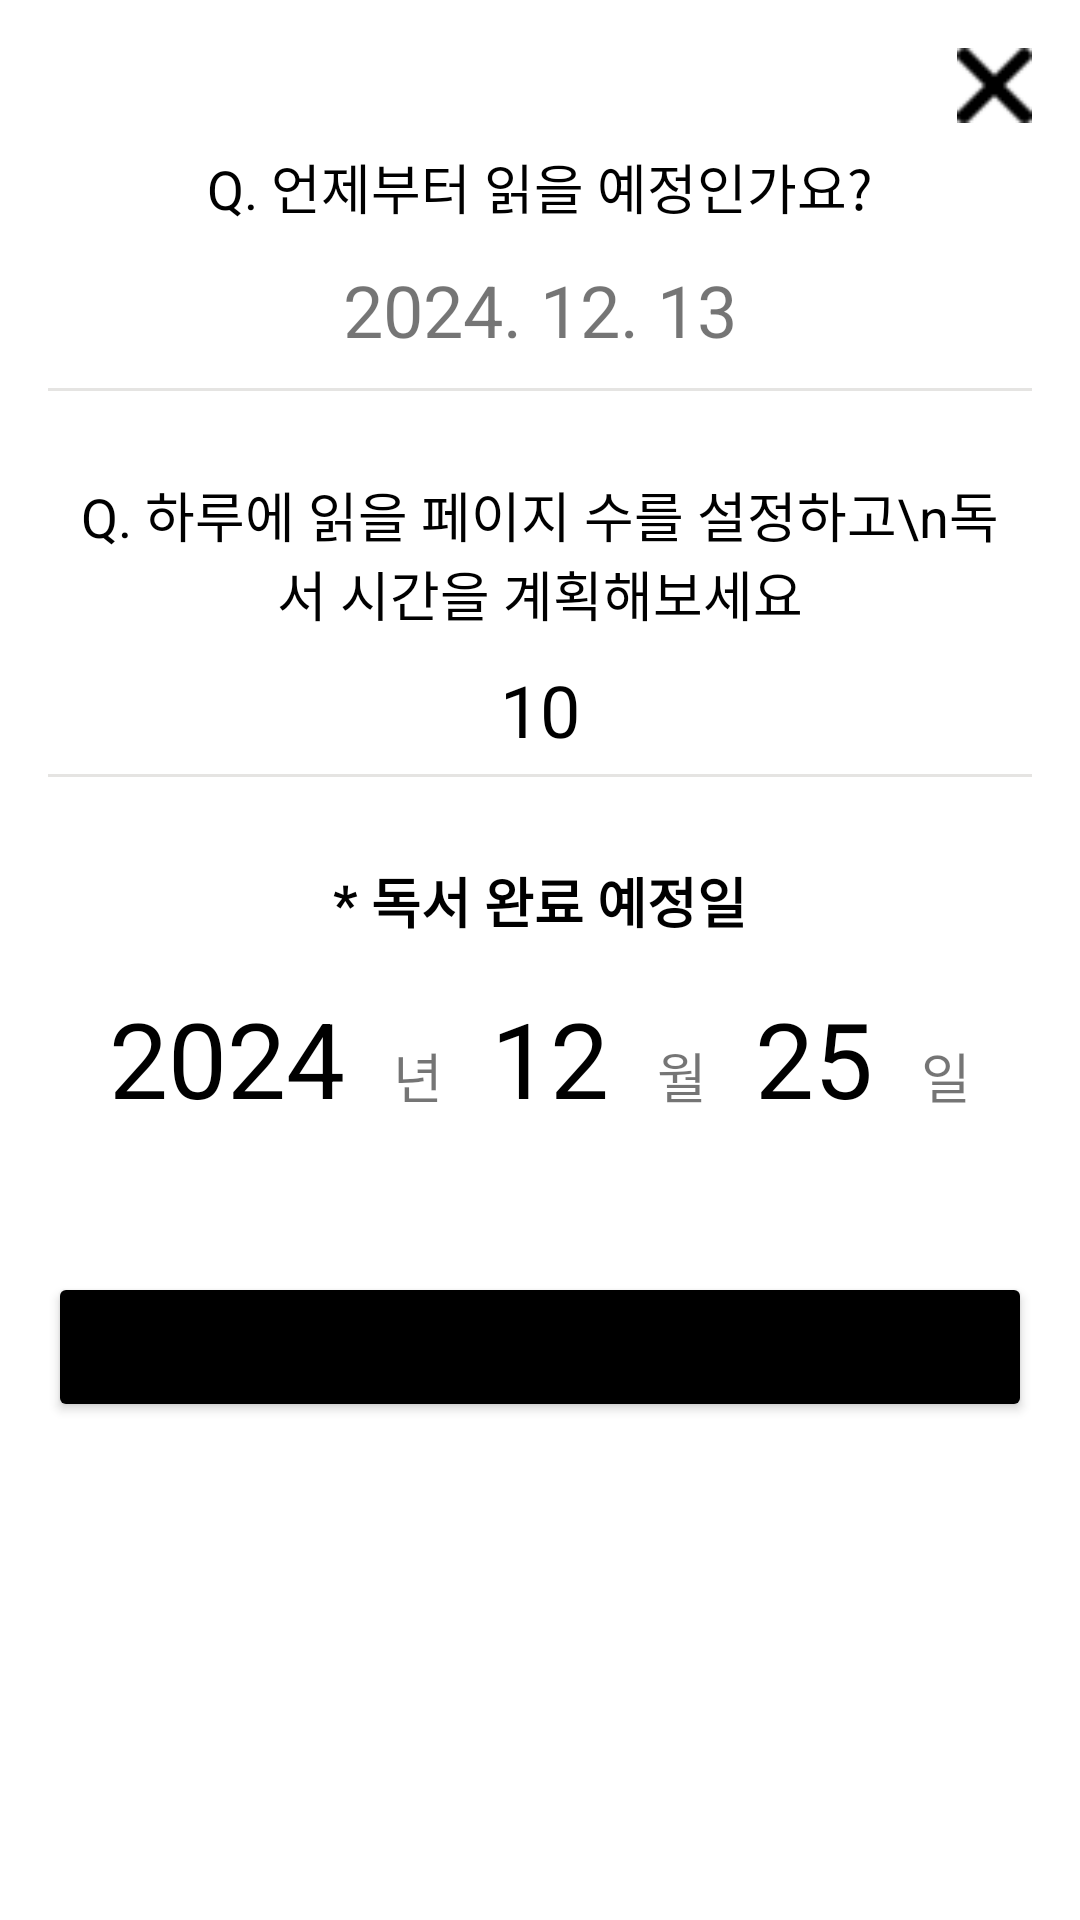

Where icons sit on this 1080x1920 app screen, as box(x1, y1, x2, y2):
close: box(957, 48, 1032, 123)
